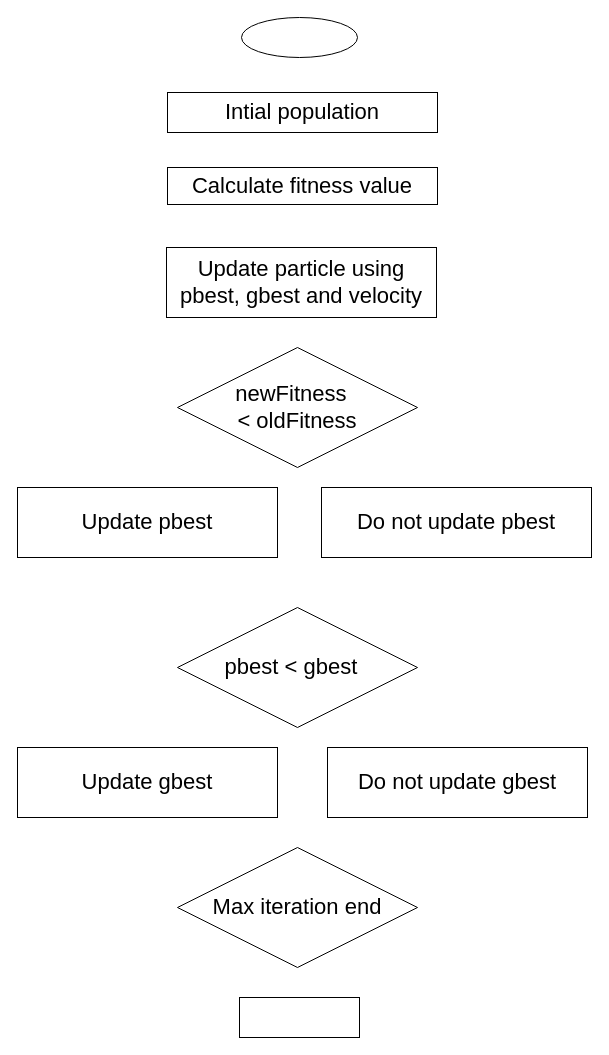
Some shapes in this 609 by 1055 pixel diagram are drawn without their labels. The shapes that lost their labels are listed below. From the top down, each one's centre as x and y in pixels, then its label:
point (299, 37): Start
point (299, 1017): End
